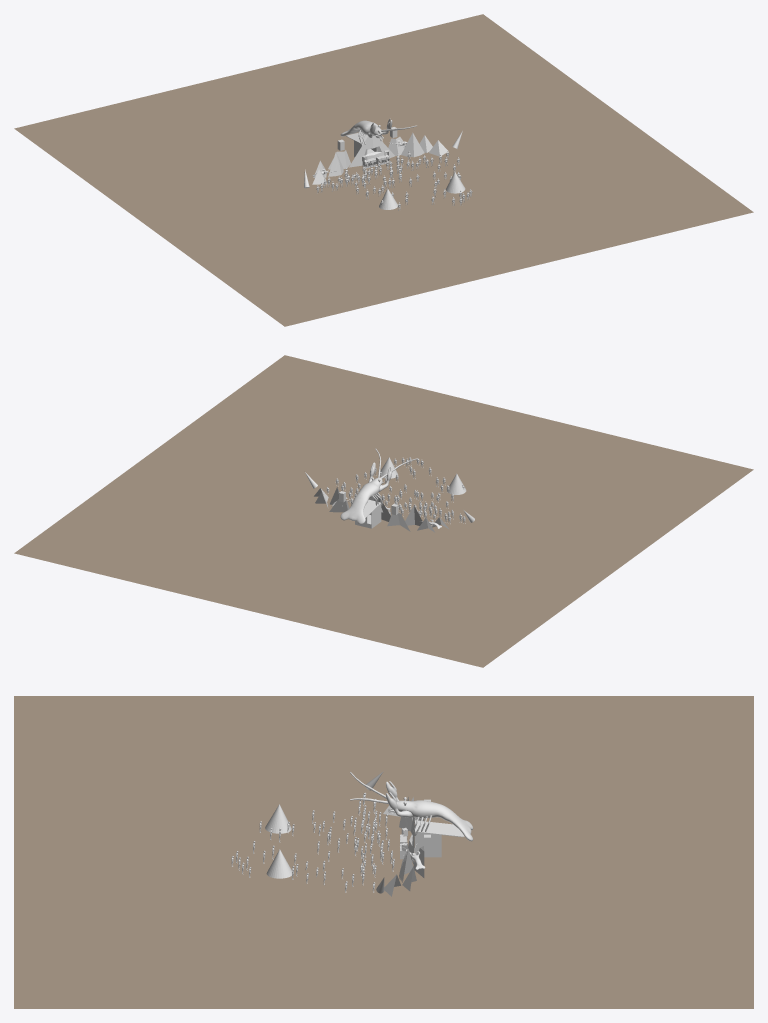
Rendered from koura_model_v2.fbx.
The picture shows the model from 3 angles, top to bottom: view 1: azimuth 30°, elevation 25°; view 2: azimuth 150°, elevation 25°; view 3: azimuth 270°, elevation 25°; orthographic projection. The views are drawn at different scales.
Visible parts, largest first — view 1: Ground, stage; view 2: Ground, stage, Koura_body; view 3: Ground, stage, Koura_body, booth.001.
Part boxes in pixels (x1,y1,x2,y2): Ground: (14, 14, 753, 326); stage: (312, 132, 448, 184); Ground: (14, 355, 753, 667); stage: (314, 487, 449, 532); Koura_body: (340, 477, 382, 524); Ground: (14, 696, 753, 1008); stage: (383, 797, 424, 896); Koura_body: (396, 800, 473, 841); booth.001: (415, 820, 464, 857).
Bounding box in the file's own units: 10 × 1.01 × 10.
